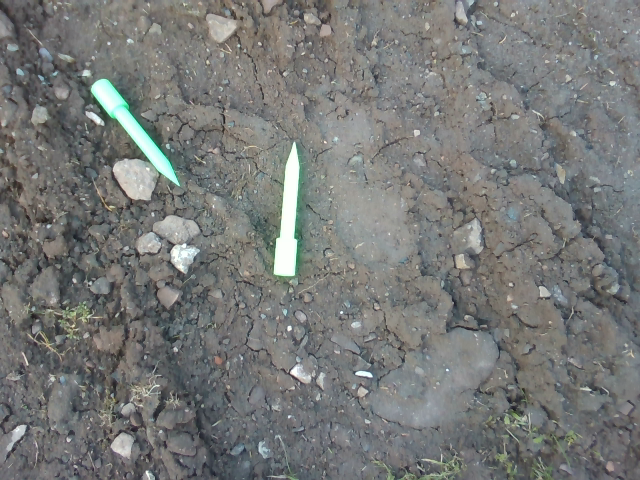Probe: (87, 74, 185, 188), (271, 139, 307, 279)
